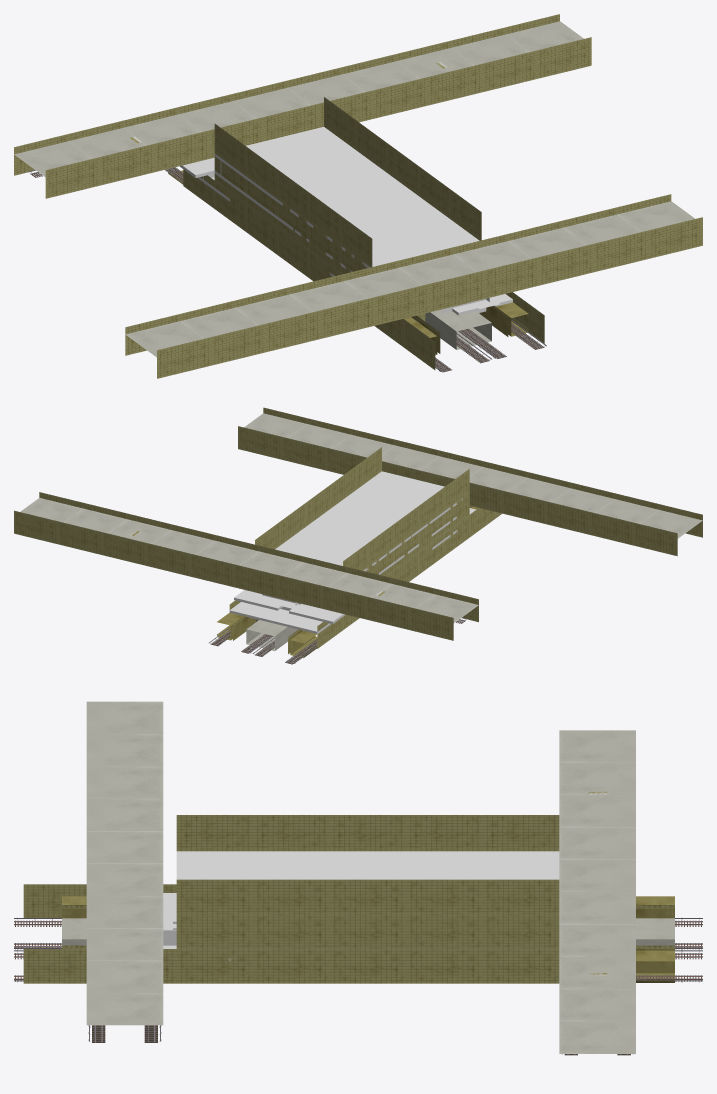
The model's file is AlexprototypeSingleObject.fbx.
3 views of the same model, one above another, from view 1: azimuth 30°, elevation 25°; view 2: azimuth 150°, elevation 25°; view 3: azimuth 270°, elevation 25° (orthographic). The views are drawn at different scales.
Visible parts, largest first — view 1: WallLeft20x10.044, WallLeft20x10.068, WallLeft20x10.016, StairsAlexFinal.004, TopFlat20x20.001, TopFlat20x20.002, DoubleTunnel20x20.001, DoubleRail20x20.003; view 2: WallLeft20x10.016, WallLeft20x10.044, WallLeft20x10.068, StairsAlexFinal.004, TopFlat20x20.002, TopFlat20x20.001, DoubleTunnel20x20.007, DoubleRail20x20.003; view 3: WallLeft20x10.068, TopFlat20x20.001, TopFlat20x20.002, StairsAlexFinal.004, DoubleTunnel20x20.007, DoubleRail20x20.003, DoubleTunnel20x20.001.
Part boxes in pixels (x1,y1,x2,y2): WallLeft20x10.044: (125,194,702,378); WallLeft20x10.068: (183,97,544,369); WallLeft20x10.016: (14,14,591,198); StairsAlexFinal.004: (180,127,512,315); TopFlat20x20.001: (125,201,695,357); TopFlat20x20.002: (14,21,583,177); DoubleTunnel20x20.001: (404,302,528,355); DoubleRail20x20.003: (165,167,546,372); WallLeft20x10.016: (14,492,478,640); WallLeft20x10.044: (238,407,702,556); WallLeft20x10.068: (229,447,501,648); StairsAlexFinal.004: (229,471,476,633); TopFlat20x20.002: (20,498,478,623); TopFlat20x20.001: (244,413,702,538); DoubleTunnel20x20.007: (217,612,317,658); DoubleRail20x20.003: (209,627,317,664); WallLeft20x10.068: (23,815,559,983); TopFlat20x20.001: (86,701,163,1025); TopFlat20x20.002: (559,730,635,1053); StairsAlexFinal.004: (163,851,559,960); DoubleTunnel20x20.007: (636,896,674,982); DoubleRail20x20.003: (14,917,702,982); DoubleTunnel20x20.001: (62,896,86,948).
Size of the model in its own units: 23055 by 3005 by 18000.
